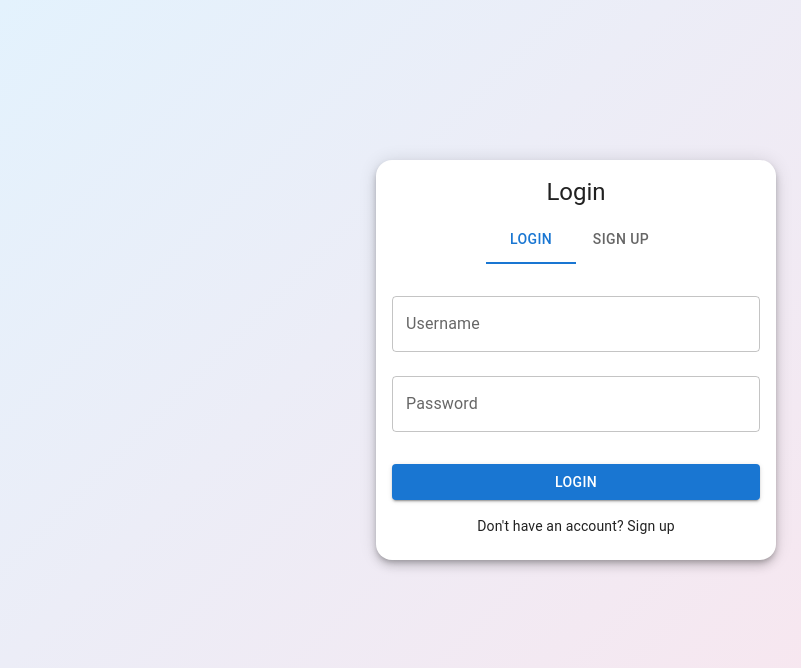
Login Component › Tab Switching › should switch back to Login tab from Sign Up tab
Click the tab "Sign Up".
click(621, 240)  # box [576, 216, 666, 264]
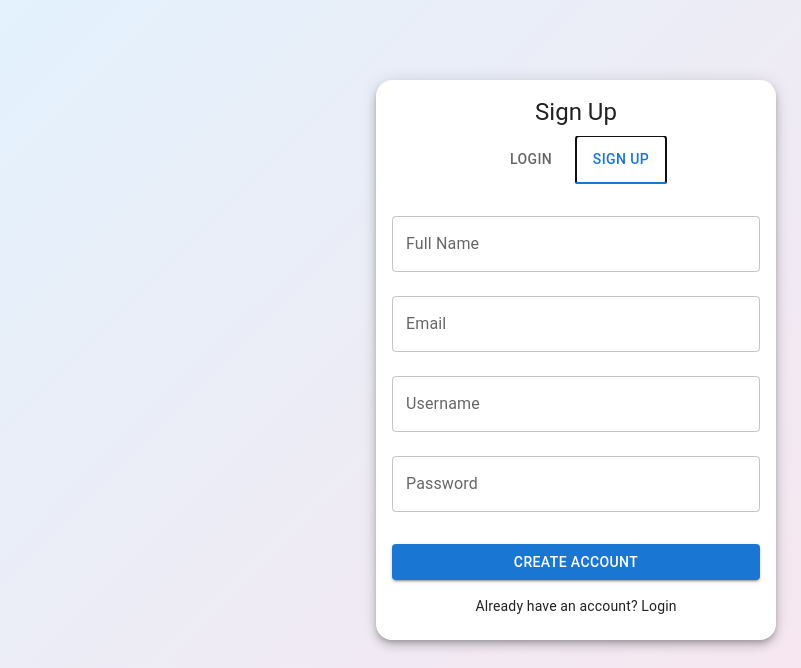
expect the heading "Sign Up" is shown: met, box [535, 98, 617, 126]
Click the tab "Login".
click(531, 160)  # box [486, 136, 576, 184]
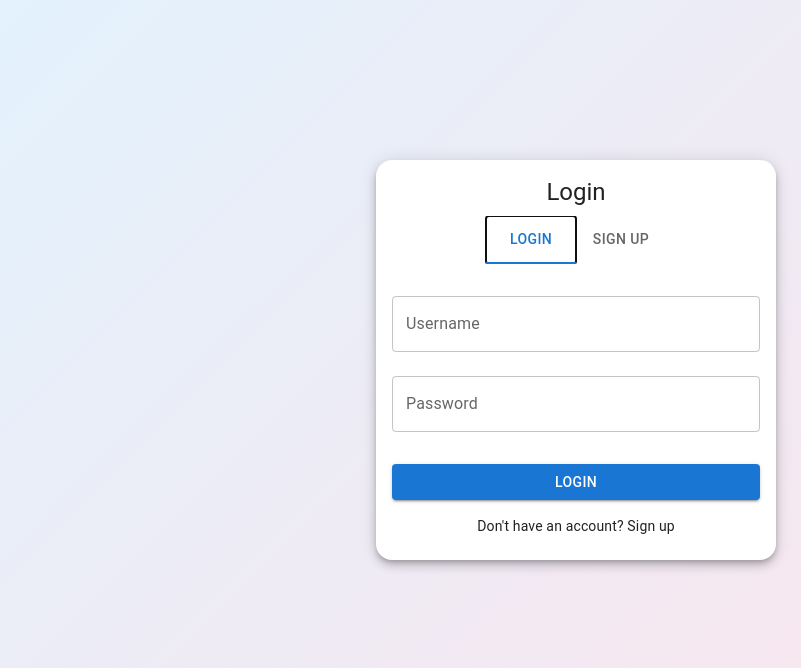
expect the heading "Login" is shown: met, box [546, 178, 606, 206]
